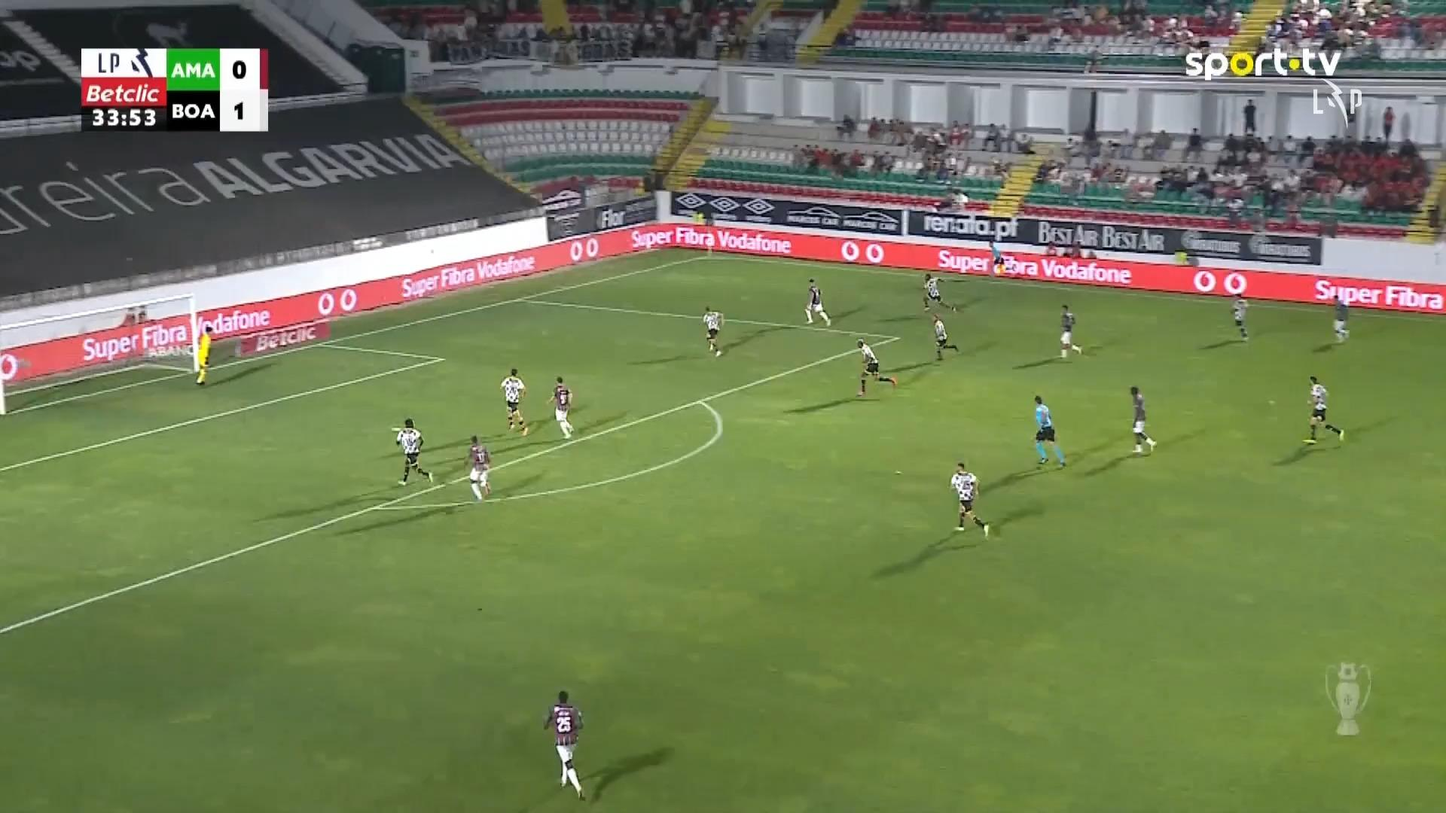goalkeeper: (194, 323, 214, 385)
player: (542, 690, 585, 799), (949, 461, 990, 538), (1302, 374, 1344, 443), (394, 418, 433, 486), (855, 337, 896, 397), (1128, 385, 1157, 454), (499, 367, 528, 435), (464, 434, 492, 500), (548, 376, 573, 438), (921, 271, 957, 312), (803, 277, 830, 327), (1058, 303, 1081, 358), (701, 306, 724, 356), (931, 312, 950, 360), (1332, 294, 1350, 342), (1231, 294, 1249, 341)
referee: (1033, 394, 1066, 468), (988, 238, 1005, 275)
